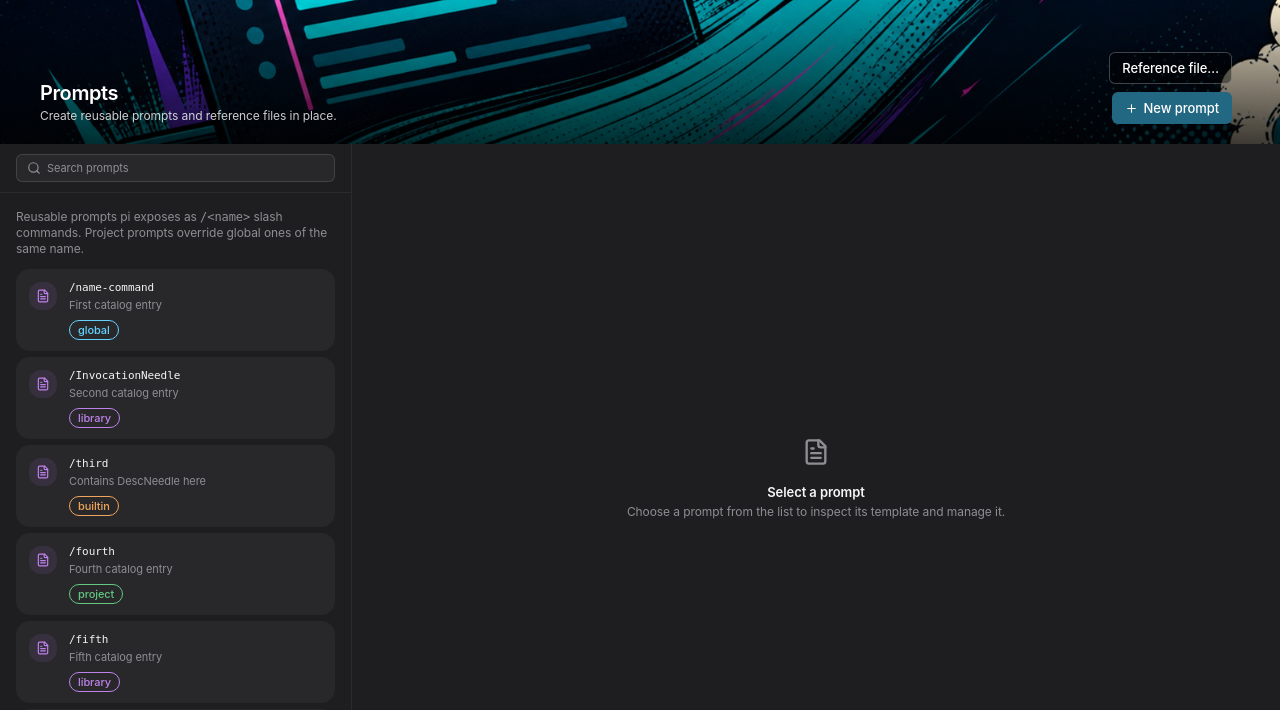
prompt catalog search › matches the prompt name field
Expected: the text "/name-command" is shown, [69, 280, 154, 296]
In the field named "Search prompt templates": (186, 168) [47, 161, 324, 175], type "NameNeedle"
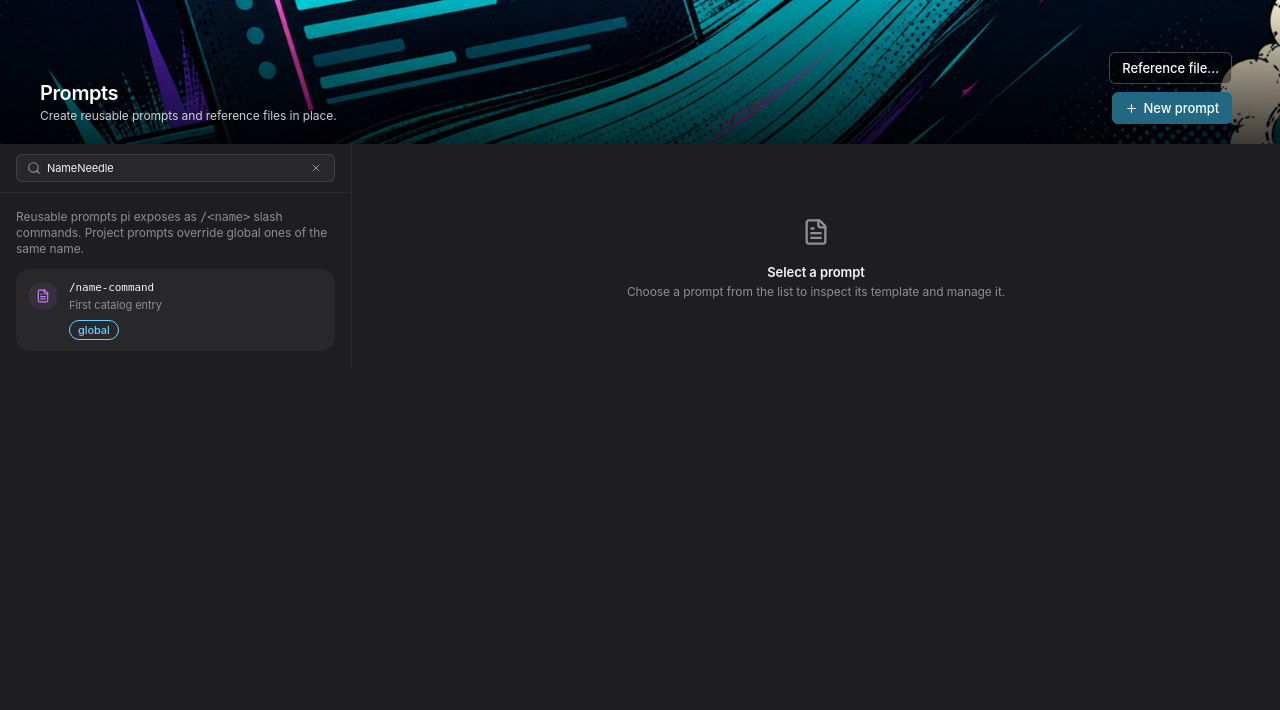
Expected: the number of list items is 1, [16, 269, 335, 351]
